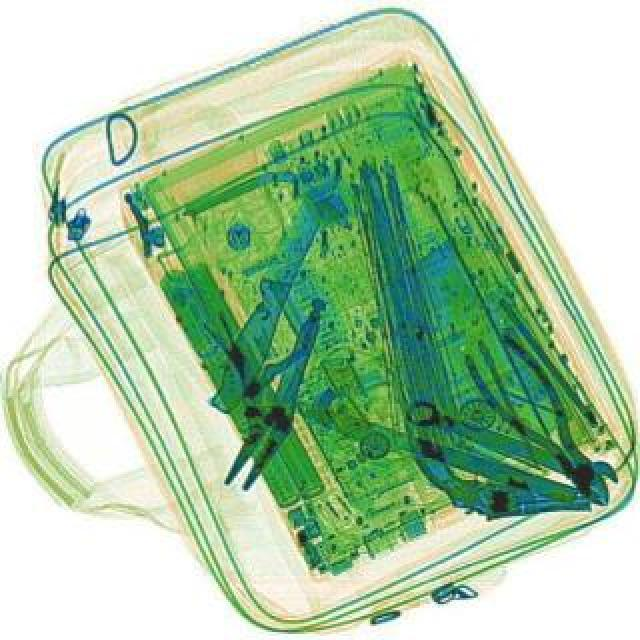gun: (404, 418, 588, 518)
knife: (204, 144, 360, 416), (262, 386, 576, 512)
scissors: (396, 390, 624, 506)
wrench: (456, 324, 620, 510)
